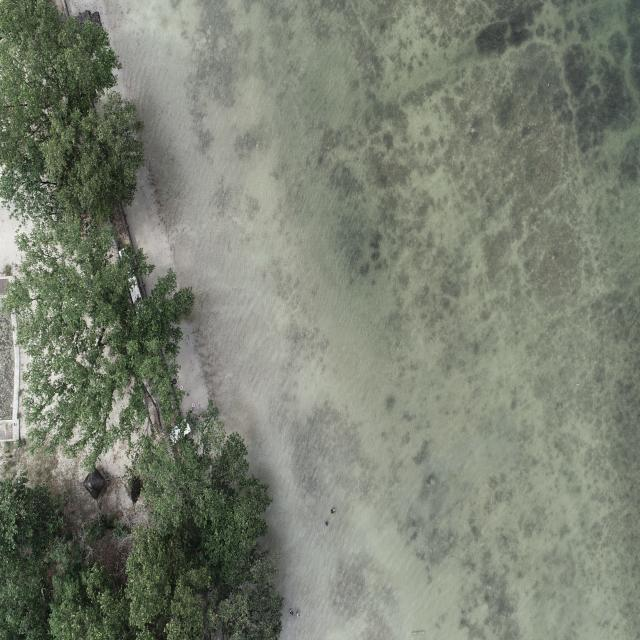Tree: (9, 215, 192, 470), (0, 0, 147, 235), (146, 404, 280, 594), (0, 481, 61, 640), (56, 561, 166, 640), (128, 524, 173, 634), (207, 581, 283, 640), (167, 582, 204, 640)
